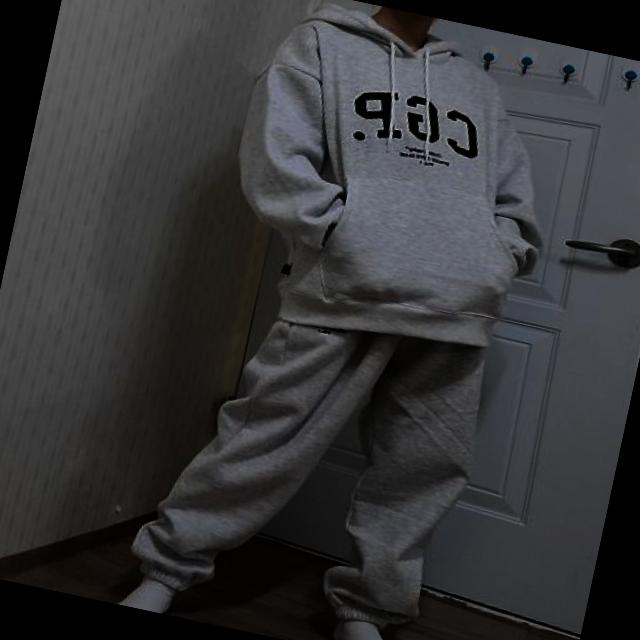hoodies: (203, 0, 577, 369)
trainingpants: (126, 280, 505, 640)
